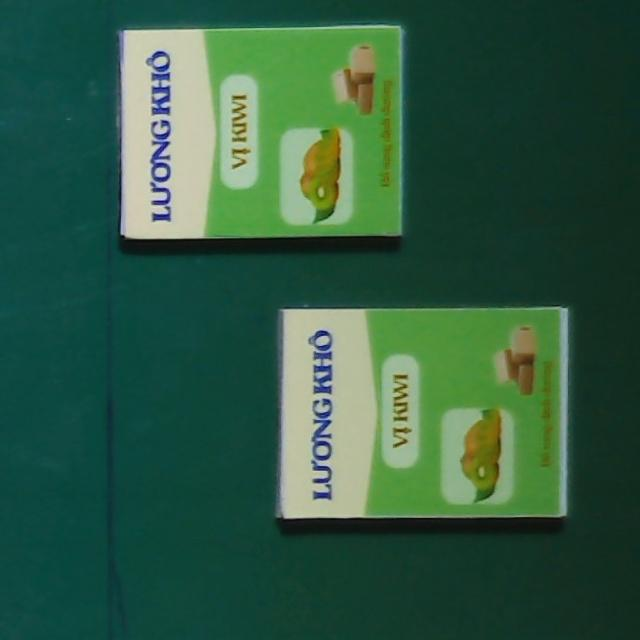kiwi: (120, 26, 403, 240), (278, 309, 566, 519)
